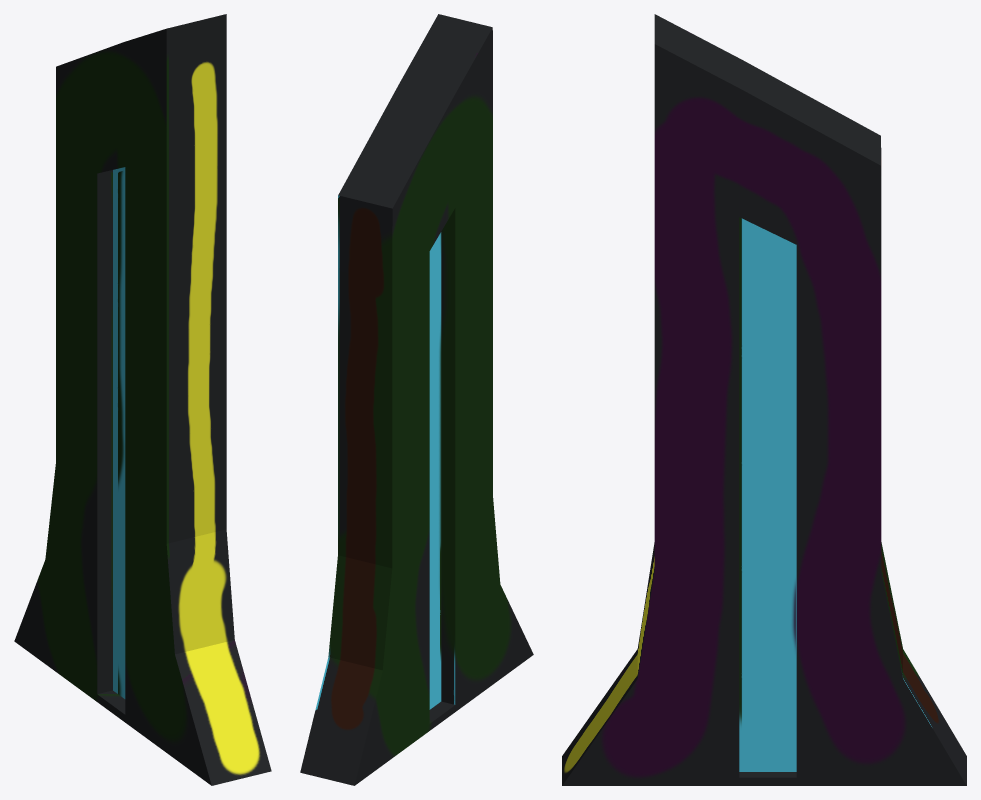
File: Power_3.glb
3 views of the same model, side by side, from view 1: azimuth 30°, elevation 25°; view 2: azimuth 150°, elevation 25°; view 3: azimuth 270°, elevation 25° (orthographic). The views are drawn at different scales.
Parts seen in each view (by area): view 1: Box; view 2: Box; view 3: Box.
Boxes of the visible parts, x1,y1,x2,y2 form: Box: (14, 14, 271, 785); Box: (300, 14, 533, 785); Box: (562, 14, 966, 785).
Size of the model in its own units: 0.5 by 5.77 by 2.85.
Materials: 1 (1 with a texture image).
